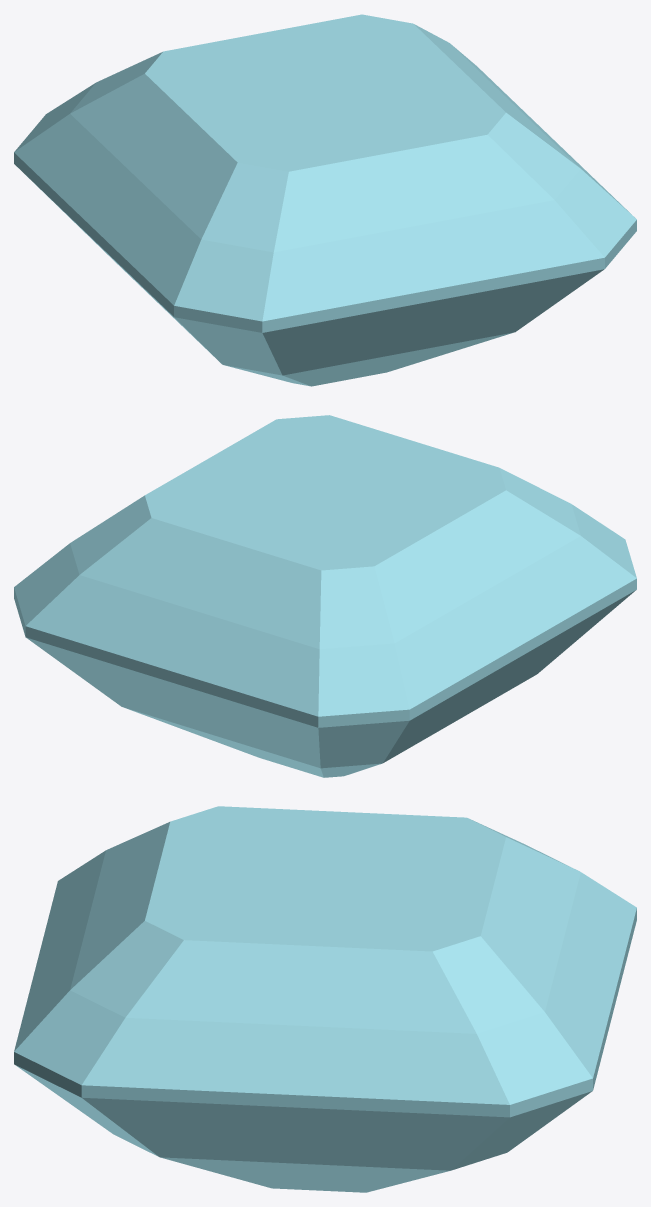
The model's file is stone-aquamarine.glb.
3 views of the same model, one above another, from view 1: azimuth 30°, elevation 25°; view 2: azimuth 150°, elevation 25°; view 3: azimuth 270°, elevation 25° (orthographic). The views are drawn at different scales.
Parts seen in each view (by area): view 1: Gemstone Aquamarine; view 2: Gemstone Aquamarine; view 3: Gemstone Aquamarine.
Part boxes in pixels (bbox=[...]): Gemstone Aquamarine: bbox=[14, 14, 636, 386]; Gemstone Aquamarine: bbox=[14, 415, 636, 777]; Gemstone Aquamarine: bbox=[14, 806, 636, 1192].
Bounding box in the file's own units: 2.16 × 1.15 × 2.27.
